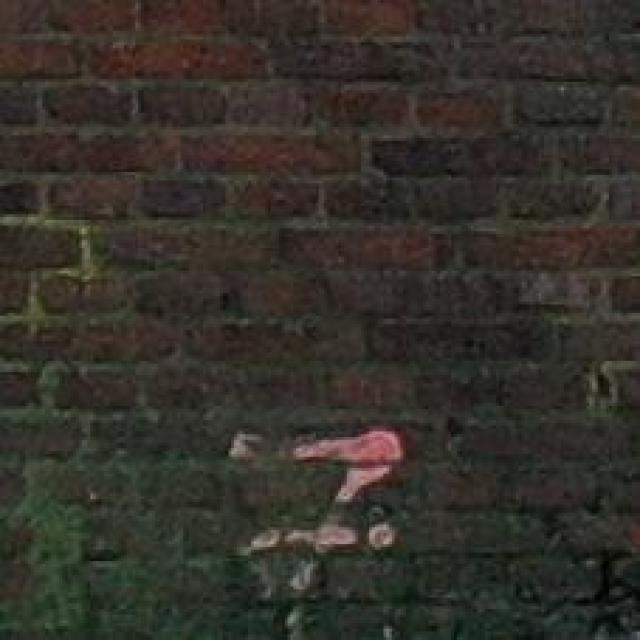Crack: (470, 244, 640, 544)
